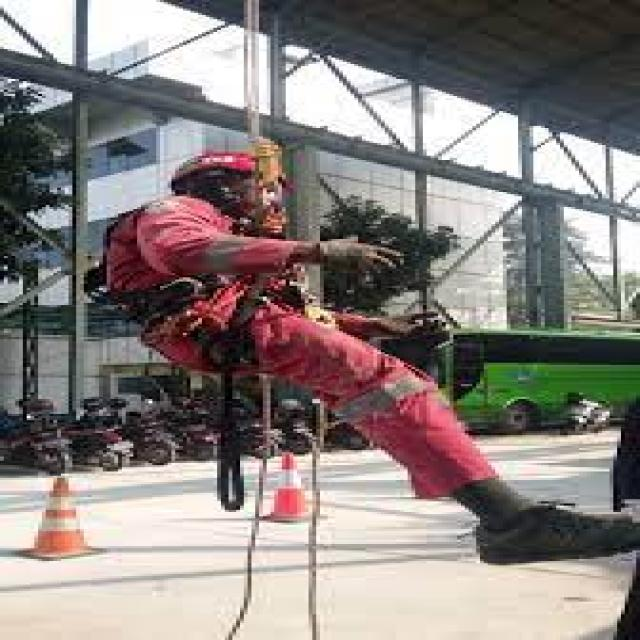shoes: (449, 503, 640, 567)
